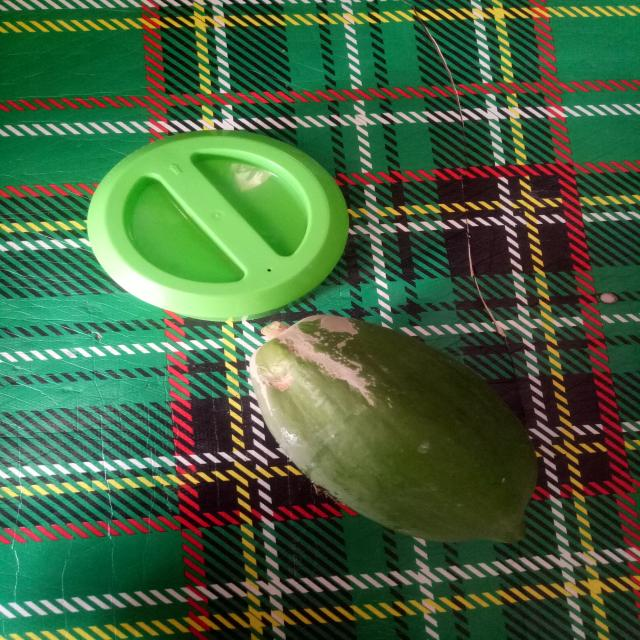Pepaya unrippen: (241, 310, 541, 560)
